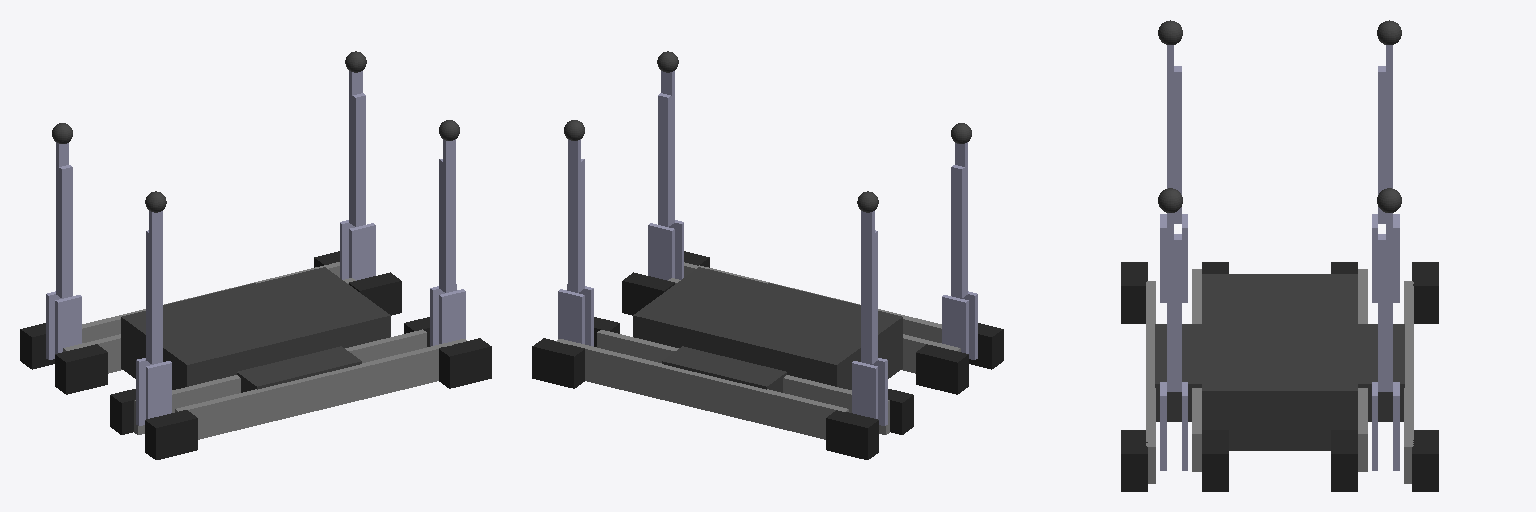
--- What the picture shows (computed from the rendered views, not written in the file) ---
3 views of the same robot in one strip: view 1: azimuth 30°, elevation 25°; view 2: azimuth 150°, elevation 25°; view 3: azimuth 270°, elevation 25° (orthographic).
Model minitaur with 39 links and 38 joints (16 continuous, 22 fixed), rooted at base_chassis_link, posed every joint at zero.
Visible links, largest first — view 1: base_chassis_link, frame1, chassis_left, frame3, motor_back_rightR_bracket_link, motor_front_rightR_bracket_link, lower_leg_back_rightR_link, lower_leg_front_rightR_link, lower_leg_front_leftR_link, lower_leg_back_leftR_link, upper_leg_front_leftR_link, upper_leg_back_rightR_link (+12 smaller); view 2: base_chassis_link, frame2, chassis_right, frame4, motor_back_leftL_bracket_link, motor_front_leftL_bracket_link, lower_leg_back_leftL_link, lower_leg_front_leftL_link, lower_leg_front_rightL_link, lower_leg_back_rightL_link, upper_leg_front_rightL_link, upper_leg_back_leftL_link (+12 smaller); view 3: base_chassis_link, chassis_right, chassis_left, frame1, frame2, motor_front_leftL_bracket_link, motor_front_rightR_bracket_link, motor_back_leftL_bracket_link, motor_back_rightR_bracket_link, frame3, frame4, lower_leg_front_leftR_link (+15 smaller).
Link boxes in pixels (x1,y1,x2,y2): base_chassis_link: (121, 267, 390, 392); frame1: (175, 339, 466, 439); chassis_left: (55, 272, 401, 394); frame3: (134, 329, 426, 434); motor_back_rightR_bracket_link: (145, 410, 197, 459); motor_front_rightR_bracket_link: (439, 338, 491, 388); lower_leg_back_rightR_link: (149, 211, 162, 364); lower_leg_front_rightR_link: (443, 139, 455, 292); lower_leg_front_leftR_link: (352, 93, 365, 226); lower_leg_back_leftR_link: (59, 165, 72, 298); upper_leg_front_leftR_link: (349, 223, 375, 280); upper_leg_back_rightR_link: (146, 361, 171, 418); base_chassis_link: (633, 267, 902, 392); frame2: (556, 339, 848, 439); chassis_right: (622, 272, 968, 394); frame4: (597, 330, 889, 434); motor_back_leftL_bracket_link: (826, 410, 878, 459); motor_front_leftL_bracket_link: (532, 338, 584, 388); lower_leg_back_leftL_link: (861, 211, 874, 364); lower_leg_front_leftL_link: (568, 139, 580, 292); lower_leg_front_rightL_link: (658, 93, 671, 226); lower_leg_back_rightL_link: (951, 165, 964, 298); upper_leg_front_rightL_link: (648, 223, 674, 280); upper_leg_back_leftL_link: (852, 361, 877, 418); base_chassis_link: (1155, 274, 1404, 450); chassis_right: (1202, 262, 1228, 491); chassis_left: (1331, 262, 1357, 491); frame1: (1146, 281, 1155, 483); frame2: (1404, 281, 1413, 483); motor_front_leftL_bracket_link: (1412, 430, 1438, 491); motor_front_rightR_bracket_link: (1121, 430, 1147, 491); motor_back_leftL_bracket_link: (1412, 262, 1438, 323); motor_back_rightR_bracket_link: (1121, 262, 1147, 323); frame3: (1192, 269, 1201, 471); frame4: (1358, 269, 1367, 471); lower_leg_front_leftR_link: (1378, 234, 1385, 391).
Bounding box of the posed robot: 0.543 × 0.38 × 0.383 m (x, y, z).
Meshes: 1 distinct files referenced, 0 mesh visuals loaded (none loaded); not drawn: 8 (reference not matched to a file when rendering).

robot.urdf — minitaur:
<?xml version="1.0" ?>
<!-- =================================================================================== -->
<!-- |    This document was autogenerated by xacro from minitaur.urdf.xacro            | -->
<!-- |    EDITING THIS FILE BY HAND IS NOT RECOMMENDED                                 | -->
<!-- =================================================================================== -->
<!-- ======================================================================= -->
<!--LICENSE:                                                                 -->
<!--Copyright (c) 2017, Erwin Coumans                                        -->
<!--Google Inc.                                                              -->
<!--All rights reserved.                                                     -->
<!--                                                                         -->
<!--Redistribution and use in source and binary forms, with or without       -->
<!--modification, are permitted provided that the following conditions are   -->
<!--met:                                                                     -->
<!--                                                                         -->
<!--1. Redistributions or derived work must retain this copyright notice,    -->
<!--   this list of conditions and the following disclaimer.                 -->
<!--                                                                         -->
<!--2. Redistributions in binary form must reproduce the above copyright     -->
<!--   notice, this list of conditions and the following disclaimer in the   -->
<!--   documentation and/or other materials provided with the distribution.  -->
<!--                                                                         -->
<!--THIS SOFTWARE IS PROVIDED BY THE COPYRIGHT HOLDERS AND CONTRIBUTORS "AS  -->
<!--IS" AND ANY EXPRESS OR IMPLIED WARRANTIES, INCLUDING, BUT NOT LIMITED TO,-->
<!--THE IMPLIED WARRANTIES OF MERCHANTABILITY AND FITNESS FOR A PARTICULAR   -->
<!--PURPOSE ARE DISCLAIMED. IN NO EVENT SHALL THE COPYRIGHT HOLDER OR        -->
<!--CONTRIBUTORS BE LIABLE FOR ANY DIRECT, INDIRECT, INCIDENTAL, SPECIAL,    -->
<!--EXEMPLARY, OR CONSEQUENTIAL DAMAGES (INCLUDING, BUT NOT LIMITED TO,      -->
<!--PROCUREMENT OF SUBSTITUTE GOODS OR SERVICES; LOSS OF USE, DATA, OR       -->
<!--PROFITS; OR BUSINESS INTERRUPTION) HOWEVER CAUSED AND ON ANY THEORY OF   -->
<!--LIABILITY, WHETHER IN CONTRACT, STRICT LIABILITY, OR TORT (INCLUDING     -->
<!--NEGLIGENCE OR OTHERWISE) ARISING IN ANY WAY OUT OF THE USE OF THIS       -->
<!--SOFTWARE, EVEN IF ADVISED OF THE POSSIBILITY OF SUCH DAMAGE.             -->
<!--                                                                         -->
<!-- Converted to xacro by Tom Jacobs <[email redacted]>          -->
<robot name="minitaur" xmlns:xacro="http://www.ros.org/wiki/xacro">
  <!-- Define parameters -->
  <!-- 7.18kg minitaur total weight - 0.016*4 - 0.10*8 - 0.25*8 - 0.05*8 - 0.05*8 = 3.516 -->
  <!-- * 4 frames -->
  <!-- * 8 motor modules -->
  <!-- * 8 motors -->
  <!-- * 8 upper legs -->
  <!-- * 8 lower legs -->
  <!-- Define materials -->
  <material name="black">
    <color rgba="0.3 0.3 0.3 1"/>
  </material>
  <material name="grey">
    <color rgba="0.5 0.5 0.5 1"/>
  </material>
  <material name="frameGrey">
    <color rgba="0.55 0.55 0.55 1"/>
  </material>
  <material name="legGrey">
    <color rgba="0.65 0.65 0.75 1"/>
  </material>
  <material name="motor">
    <color rgba="0.2 0.2 0.2 1"/>
  </material>
  <!-- Body -->
  <link name="base_chassis_link">
    <visual>
      <geometry>
        <box size="0.33 0.1855 0.08"/>
      </geometry>
      <material name="black"/>
    </visual>
    <visual>
      <origin rpy="0 0 0" xyz="0 0.10 -0.014"/>
      <geometry>
        <box size="0.17 0.1 0.05"/>
      </geometry>
      <material name="black"/>
    </visual>
    <visual>
      <origin rpy="0 0 0" xyz="0 -0.10 -0.014"/>
      <geometry>
        <box size="0.17 0.1 0.05"/>
      </geometry>
      <material name="black"/>
    </visual>
    <collision>
      <geometry>
        <box size="0.33 0.1855 0.08"/>
      </geometry>
    </collision>
    <collision>
      <origin rpy="0 0 0" xyz="0 0.10 -0.014"/>
      <geometry>
        <box size="0.17 0.1 0.05"/>
      </geometry>
    </collision>
    <collision>
      <origin rpy="0 0 0" xyz="0 -0.10 -0.014"/>
      <geometry>
        <box size="0.17 0.1 0.05"/>
      </geometry>
    </collision>
    <inertial>
      <mass value="3.516"/>
      <!-- https://en.wikipedia.org/wiki/List_of_moments_of_inertia Solid Cuboid -->
      <inertia ixx="0.01195740325" ixy="0.0" ixz="0.0" iyy="0.0337829" iyz="0.0" izz="0.04198990325"/>
    </inertial>
  </link>
  <!-- Frame -->
  <link name="frame1">
    <visual>
      <origin rpy="0 0 0" xyz="-0.22 0 0"/>
      <geometry>
        <box size="0.468 .012 .050"/>
      </geometry>
      <material name="frameGrey"/>
    </visual>
    <collision>
      <origin rpy="0 0 0" xyz="-0.22 0 0"/>
      <geometry>
        <box size="0.468 .012 .050"/>
      </geometry>
    </collision>
    <inertial>
      <origin rpy="0 0 0" xyz="0 -0.03 0"/>
      <mass value="0.16"/>
      <inertia ixx=".00011397" ixy=".0" ixz=".0" iyy=".00011397" iyz=".0" izz=".00021765"/>
    </inertial>
  </link>
  <joint name="frame1_joint" type="fixed">
    <axis xyz="0 0 1"/>
    <parent link="base_chassis_link"/>
    <child link="frame1"/>
    <origin rpy="0 0 0" xyz=".2375 -0.154 -.0185"/>
    <limit effort="100" velocity="100"/>
    <joint_properties damping=".0" friction=".0"/>
  </joint>
  <link name="frame2">
    <visual>
      <origin rpy="0 0 0" xyz="-0.22 0 0"/>
      <geometry>
        <box size="0.468 .012 .050"/>
      </geometry>
      <material name="frameGrey"/>
    </visual>
    <collision>
      <origin rpy="0 0 0" xyz="-0.22 0 0"/>
      <geometry>
        <box size="0.468 .012 .050"/>
      </geometry>
    </collision>
    <inertial>
      <origin rpy="0 0 0" xyz="0 0.02 0"/>
      <mass value="0.16"/>
      <inertia ixx=".00011397" ixy=".0" ixz=".0" iyy=".00011397" iyz=".0" izz=".00021765"/>
    </inertial>
  </link>
  <joint name="frame2_joint" type="fixed">
    <axis xyz="0 0 1"/>
    <parent link="base_chassis_link"/>
    <child link="frame2"/>
    <origin rpy="0 0 0" xyz=".2375 0.154 -.0185"/>
    <limit effort="100" velocity="100"/>
    <joint_properties damping=".0" friction=".0"/>
  </joint>
  <link name="frame3">
    <visual>
      <origin rpy="0 0 0" xyz="0.22 0.055 0"/>
      <geometry>
        <box size="0.468 .012 .050"/>
      </geometry>
      <material name="frameGrey"/>
    </visual>
    <collision>
      <origin rpy="0 0 0" xyz="0.22 0.055 0"/>
      <geometry>
        <box size="0.468 .012 .050"/>
      </geometry>
    </collision>
    <inertial>
      <origin rpy="0 0 0" xyz="0 -0.03 0"/>
      <mass value="0.16"/>
      <inertia ixx=".00011397" ixy=".0" ixz=".0" iyy=".00011397" iyz=".0" izz=".00021765"/>
    </inertial>
  </link>
  <joint name="frame3_joint" type="fixed">
    <axis xyz="0 0 1"/>
    <parent link="base_chassis_link"/>
    <child link="frame3"/>
    <origin rpy="0 0 0" xyz="-.2375 -0.154 -.0185"/>
    <limit effort="100" velocity="100"/>
    <joint_properties damping=".0" friction=".0"/>
  </joint>
  <link name="frame4">
    <visual>
      <origin rpy="0 0 0" xyz="0.22 -0.055 0"/>
      <geometry>
        <box size="0.468 .012 .050"/>
      </geometry>
      <material name="frameGrey"/>
    </visual>
    <collision>
      <origin rpy="0 0 0" xyz="0.22 -0.055 0"/>
      <geometry>
        <box size="0.468 .012 .050"/>
      </geometry>
    </collision>
    <inertial>
      <origin rpy="0 0 0" xyz="0 0.02 0"/>
      <mass value="0.16"/>
      <inertia ixx=".00011397" ixy=".0" ixz=".0" iyy=".00011397" iyz=".0" izz=".00021765"/>
    </inertial>
  </link>
  <joint name="frame4" type="fixed">
    <axis xyz="0 0 1"/>
    <parent link="base_chassis_link"/>
    <child link="frame4"/>
    <origin rpy="0 0 0" xyz="-.2375 0.154 -.0185"/>
    <limit effort="100" velocity="100"/>
    <joint_properties damping=".0" friction=".0"/>
  </joint>
  <!-- Inside motor module boxes -->
  <link name="chassis_right">
    <visual>
      <origin rpy="0 0 0" xyz=".2375 .049 0"/>
      <geometry>
        <box size=".068 .032 .050"/>
      </geometry>
      <material name="motor"/>
    </visual>
    <visual>
      <origin rpy="0 0 0" xyz="-.2375 .049 0"/>
      <geometry>
        <box size=".068 .032 .050"/>
      </geometry>
      <material name="motor"/>
    </visual>
    <collision>
      <origin rpy="0 0 0" xyz=".2375 .049 0"/>
      <geometry>
        <box size=".068 .032 .050"/>
      </geometry>
    </collision>
    <collision>
      <origin rpy="0 0 0" xyz="-.2375 .049 0"/>
      <geometry>
        <box size=".068 .032 .050"/>
      </geometry>
    </collision>
    <inertial>
      <mass value="0.2"/>
      <inertia ixx=".004147" ixy=".0" ixz=".0" iyy=".040913" iyz=".0" izz=".041840"/>
    </inertial>
  </link>
  <joint name="chassis_right_center" type="fixed">
    <axis xyz="0 0 1"/>
    <parent link="base_chassis_link"/>
    <child link="chassis_right"/>
    <origin rpy="0 0 0" xyz="0 -.1265 -.0185"/>
    <limit effort="100" velocity="100"/>
    <joint_properties damping=".0" friction=".0"/>
  </joint>
  <link name="chassis_left">
    <visual>
      <origin rpy="0 0 0" xyz=".2375 -.049 0"/>
      <geometry>
        <box size=".068 .032 .050"/>
      </geometry>
      <material name="motor"/>
    </visual>
    <visual>
      <origin rpy="0 0 0" xyz="-.2375 -.049 0"/>
      <geometry>
        <box size=".068 .032 .050"/>
      </geometry>
      <material name="motor"/>
    </visual>
    <collision>
      <origin rpy="0 0 0" xyz=".2375 -.049 0"/>
      <geometry>
        <box size=".068 .032 .050"/>
      </geometry>
    </collision>
    <collision>
      <origin rpy="0 0 0" xyz="-.2375 -.049 0"/>
      <geometry>
        <box size=".068 .032 .050"/>
      </geometry>
    </collision>
    <inertial>
      <mass value="0.2"/>
      <inertia ixx=".004147" ixy=".0" ixz=".0" iyy=".040913" iyz=".0" izz=".041840"/>
    </inertial>
  </link>
  <joint name="chassis_left_center" type="fixed">
    <axis xyz="0 0 1"/>
    <parent link="base_chassis_link"/>
    <child link="chassis_left"/>
    <origin rpy="0 0 0" xyz="0 .1265 -.0185"/>
    <limit effort="100" velocity="100"/>
    <joint_properties damping=".0" friction=".0"/>
  </joint>
  <!-- Outside motor module boxes -->
  <link name="motor_front_rightR_bracket_link">
    <visual>
      <origin rpy="0 0 0" xyz="0 -0.02 0"/>
      <geometry>
        <box size="0.068 .032 .050"/>
      </geometry>
      <material name="motor"/>
    </visual>
    <collision>
      <origin rpy="0 0 0" xyz="0 -0.02 0"/>
      <geometry>
        <box size=".068 .032 .050"/>
      </geometry>
    </collision>
    <inertial>
      <origin rpy="0 0 0" xyz="0 -0.03 0"/>
      <mass value="0.1"/>
      <inertia ixx=".00011397" ixy=".0" ixz=".0" iyy=".00011397" iyz=".0" izz=".00021765"/>
    </inertial>
  </link>
  <joint name="motor_front_rightR_bracket_joint" type="fixed">
    <axis xyz="0 0 1"/>
    <parent link="base_chassis_link"/>
    <child link="motor_front_rightR_bracket_link"/>
    <origin rpy="0 0 0" xyz=".2375 -0.154 -.0185"/>
    <limit effort="100" velocity="100"/>
    <joint_properties damping=".0" friction=".0"/>
  </joint>
  <link name="motor_front_leftL_bracket_link">
    <visual>
      <origin rpy="0 0 0" xyz="0 0.02 0"/>
      <geometry>
        <box size="0.068 .032 .050"/>
      </geometry>
      <material name="motor"/>
    </visual>
    <collision>
      <origin rpy="0 0 0" xyz="0 0.02 0"/>
      <geometry>
        <box size=".068 .032 .050"/>
      </geometry>
    </collision>
    <inertial>
      <origin rpy="0 0 0" xyz="0 0.02 0"/>
      <mass value="0.1"/>
      <inertia ixx=".00011397" ixy=".0" ixz=".0" iyy=".00011397" iyz=".0" izz=".00021765"/>
    </inertial>
  </link>
  <joint name="motor_front_leftL_bracket_joint" type="fixed">
    <axis xyz="0 0 1"/>
    <parent link="base_chassis_link"/>
    <child link="motor_front_leftL_bracket_link"/>
    <origin rpy="0 0 0" xyz=".2375 0.154 -.0185"/>
    <limit effort="100" velocity="100"/>
    <joint_properties damping=".0" friction=".0"/>
  </joint>
  <link name="motor_back_rightR_bracket_link">
    <visual>
      <origin rpy="0 0 0" xyz="0 -0.02 0"/>
      <geometry>
        <box size="0.068 .032 .050"/>
      </geometry>
      <material name="motor"/>
    </visual>
    <collision>
      <origin rpy="0 0 0" xyz="0 -0.02 0"/>
      <geometry>
        <box size=".068 .032 .050"/>
      </geometry>
    </collision>
    <inertial>
      <origin rpy="0 0 0" xyz="0 -0.03 0"/>
      <mass value="0.1"/>
      <inertia ixx=".00011397" ixy=".0" ixz=".0" iyy=".00011397" iyz=".0" izz=".00021765"/>
    </inertial>
  </link>
  <joint name="motor_back_rightR_bracket_joint" type="fixed">
    <axis xyz="0 0 1"/>
    <parent link="base_chassis_link"/>
    <child link="motor_back_rightR_bracket_link"/>
    <origin rpy="0 0 0" xyz="-.2375 -0.154 -.0185"/>
    <limit effort="100" velocity="100"/>
    <joint_properties damping=".0" friction=".0"/>
  </joint>
  <link name="motor_back_leftL_bracket_link">
    <visual>
      <origin rpy="0 0 0" xyz="0 0.02 0"/>
      <geometry>
        <box size="0.068 .032 .050"/>
      </geometry>
      <material name="motor"/>
    </visual>
    <collision>
      <origin rpy="0 0 0" xyz="0 0.02 0"/>
      <geometry>
        <box size=".068 .032 .050"/>
      </geometry>
    </collision>
    <inertial>
      <origin rpy="0 0 0" xyz="0 0.02 0"/>
      <mass value="0.1"/>
      <inertia ixx=".00011397" ixy=".0" ixz=".0" iyy=".00011397" iyz=".0" izz=".00021765"/>
    </inertial>
  </link>
  <joint name="motor_back_leftL_bracket_joint" type="fixed">
    <axis xyz="0 0 1"/>
    <parent link="base_chassis_link"/>
    <child link="motor_back_leftL_bracket_link"/>
    <origin rpy="0 0 0" xyz="-.2375 0.154 -.0185"/>
    <limit effort="100" velocity="100"/>
    <joint_properties damping=".0" friction=".0"/>
  </joint>
  <!-- Define our motor macro -->
  <!-- Motors -->
  <link name="motor_front_rightR_link">
    <visual>
      <geometry>
        <mesh filename="package://minitaur_description/meshes/tmotor3.obj" scale="1.0 1.0 1.0"/>
      </geometry>
      <material name="motor"/>
    </visual>
    <collision>
      <geometry>
        <cylinder length="0.021" radius="0.0425"/>
      </geometry>
    </collision>
    <inertial>
      <mass value="0.25"/>
      <inertia ixx=".00011397" ixy=".0" ixz=".0" iyy=".00011397" iyz=".0" izz=".00021765"/>
    </inertial>
  </link>
  <joint name="5" type="continuous">
    <axis xyz="0 0 1"/>
    <parent link="motor_front_rightR_bracket_link"/>
    <child link="motor_front_rightR_link"/>
    <origin rpy="1.57075 0 0" xyz="0 0 0"/>
    <limit effort="100" velocity="100"/>
    <joint_properties damping="0.0" friction="0.0"/>
  </joint>
  <link name="motor_front_rightL_link">
    <visual>
      <geometry>
        <mesh filename="package://minitaur_description/meshes/tmotor3.obj" scale="1.0 1.0 1.0"/>
      </geometry>
      <material name="motor"/>
    </visual>
    <collision>
      <geometry>
        <cylinder length="0.021" radius="0.0425"/>
      </geometry>
    </collision>
    <inertial>
      <mass value="0.25"/>
      <inertia ixx=".00011397" ixy=".0" ixz=".0" iyy=".00011397" iyz=".0" izz=".00021765"/>
    </inertial>
  </link>
  <joint name="4" type="continuous">
    <axis xyz="0 0 -1"/>
    <parent link="chassis_right"/>
    <child link="motor_front_rightL_link"/>
    <origin rpy="1.57075 0 0" xyz=".2375 .0275 0"/>
    <limit effort="100" velocity="100"/>
    <joint_properties damping="0.0" friction="0.0"/>
  </joint>
  <link name="motor_front_leftL_link">
    <visual>
      <geometry>
        <mesh filename="package://minitaur_description/meshes/tmotor3.obj" scale="1.0 1.0 1.0"/>
      </geometry>
      <material name="motor"/>
    </visual>
    <collision>
      <geometry>
        <cylinder length="0.021" radius="0.0425"/>
      </geometry>
    </collision>
    <inertial>
      <mass value="0.25"/>
      <inertia ixx=".00011397" ixy=".0" ixz=".0" iyy=".00011397" iyz=".0" izz=".00021765"/>
    </inertial>
  </link>
  <joint name="0" type="continuous">
    <axis xyz="0 0 -1"/>
    <parent link="motor_front_leftL_bracket_link"/>
    <child link="motor_front_leftL_link"/>
    <origin rpy="1.57075 0 0" xyz="0 0 0"/>
    <limit effort="100" velocity="100"/>
    <joint_properties damping="0.0" friction="0.0"/>
  </joint>
  <link name="motor_front_leftR_link">
    <visual>
      <geometry>
        <mesh filename="package://minitaur_description/meshes/tmotor3.obj" scale="1.0 1.0 1.0"/>
      </geometry>
      <material name="motor"/>
    </visual>
    <collision>
      <geometry>
        <cylinder length="0.021" radius="0.0425"/>
      </geometry>
    </collision>
    <inertial>
      <mass value="0.25"/>
      <inertia ixx=".00011397" ixy=".0" ixz=".0" iyy=".00011397" iyz=".0" izz=".00021765"/>
    </inertial>
  </link>
  <joint name="1" type="continuous">
    <axis xyz="0 0 1"/>
    <parent link="chassis_left"/>
    <child link="motor_front_leftR_link"/>
    <origin rpy="1.57075 0 0" xyz=".2375 -.0275 0"/>
    <limit effort="100" velocity="100"/>
    <joint_properties damping="0.0" friction="0.0"/>
  </joint>
  <link name="motor_back_rightR_link">
    <visual>
      <geometry>
        <mesh filename="package://minitaur_description/meshes/tmotor3.obj" scale="1.0 1.0 1.0"/>
      </geometry>
      <material name="motor"/>
    </visual>
    <collision>
      <geometry>
        <cylinder length="0.021" radius="0.0425"/>
      </geometry>
    </collision>
    <inertial>
      <mass value="0.25"/>
      <inertia ixx=".00011397" ixy=".0" ixz=".0" iyy=".00011397" iyz=".0" izz=".00021765"/>
    </inertial>
  </link>
  <joint name="7" type="continuous">
    <axis xyz="0 0 1"/>
    <parent link="motor_back_rightR_bracket_link"/>
    <child link="motor_back_rightR_link"/>
    <origin rpy="1.57075 0 0" xyz="0 0 0"/>
    <limit effort="100" velocity="100"/>
    <joint_properties damping="0.0" friction="0.0"/>
  </joint>
  <link name="motor_back_rightL_link">
    <visual>
      <geometry>
        <mesh filename="package://minitaur_description/meshes/tmotor3.obj" scale="1.0 1.0 1.0"/>
      </geometry>
      <material name="motor"/>
    </visual>
    <collision>
      <geometry>
        <cylinder length="0.021" radius="0.0425"/>
      </geometry>
    </collision>
    <inertial>
      <mass value="0.25"/>
      <inertia ixx=".00011397" ixy=".0" ixz=".0" iyy=".00011397" iyz=".0" izz=".00021765"/>
    </inertial>
  </link>
  <joint name="6" type="continuous">
    <axis xyz="0 0 -1"/>
    <parent link="chassis_right"/>
    <child link="motor_back_rightL_link"/>
    <origin rpy="1.57075 0 0" xyz="-.2375 .0275 0"/>
    <limit effort="100" velocity="100"/>
    <joint_properties damping="0.0" friction="0.0"/>
  </joint>
  <link name="motor_back_leftL_link">
    <visual>
      <geometry>
        <mesh filename="package://minitaur_description/meshes/tmotor3.obj" scale="1.0 1.0 1.0"/>
      </geometry>
      <material name="motor"/>
    </visual>
    <collision>
      <geometry>
        <cylinder length="0.021" radius="0.0425"/>
      </geometry>
    </collision>
    <inertial>
      <mass value="0.25"/>
      <inertia ixx=".00011397" ixy=".0" ixz=".0" iyy=".00011397" iyz=".0" izz=".00021765"/>
    </inertial>
  </link>
  <joint name="2" type="continuous">
    <axis xyz="0 0 -1"/>
    <parent link="motor_back_leftL_bracket_link"/>
    <child link="motor_back_leftL_link"/>
    <origin rpy="1.57075 0 0" xyz="0 0 0"/>
    <limit effort="100" velocity="100"/>
    <joint_properties damping="0.0" friction="0.0"/>
  </joint>
  <link name="motor_back_leftR_link">
    <visual>
      <geometry>
        <mesh filename="package://minitaur_description/meshes/tmotor3.obj" scale="1.0 1.0 1.0"/>
      </geometry>
      <material name="motor"/>
    </visual>
    <collision>
      <geometry>
        <cylinder length="0.021" radius="0.0425"/>
      </geometry>
    </collision>
    <inertial>
      <mass value="0.25"/>
      <inertia ixx=".00011397" ixy=".0" ixz=".0" iyy=".00011397" iyz=".0" izz=".00021765"/>
    </inertial>
  </link>
  <joint name="3" type="continuous">
    <axis xyz="0 0 1"/>
    <parent link="chassis_left"/>
    <child link="motor_back_leftR_link"/>
    <origin rpy="1.57075 0 0" xyz="-.2375 -.0275 0"/>
    <limit effort="100" velocity="100"/>
    <joint_properties damping="0.0" friction="0.0"/>
  </joint>
  <!-- Define our upper leg macro -->
  <!-- Define our lower leg macro -->
  <!-- Legs -->
  <link name="upper_leg_front_rightR_link">
    <visual>
      <geometry>
        <box size="0.039 0.008 0.1"/>
      </geometry>
      <material name="legGrey"/>
    </visual>
    <collision>
      <geometry>
        <box size="0.039 0.008 0.1"/>
      </geometry>
    </collision>
    <inertial>
      <mass value="0.05"/>
      <inertia ixx=".000038770" ixy=".0" ixz=".0" iyy=".000042198" iyz=".0" izz=".0000036030"/>
    </inertial>
  </link>
  <joint name="hip_front_rightR_link" type="fixed">
    <axis xyz="0 0 1"/>
    <parent link="motor_front_rightR_link"/>
    <child link="upper_leg_front_rightR_link"/>
    <origin rpy="-1.57075 0 0" xyz="0 .045 -.0145"/>
    <limit effort="100" velocity="100"/>
    <joint_properties damping="0.0" friction="0.0"/>
  </joint>
  <link name="upper_leg_front_rightL_link">
    <visual>
      <geometry>
        <box size="0.039 0.008 0.1"/>
      </geometry>
      <material name="legGrey"/>
    </visual>
    <collision>
      <geometry>
        <box size="0.039 0.008 0.1"/>
      </geometry>
    </collision>
    <inertial>
      <mass value="0.05"/>
      <inertia ixx=".000038770" ixy=".0" ixz=".0" iyy=".000042198" iyz=".0" izz=".0000036030"/>
    </inertial>
  </link>
  <joint name="motor_front_rightL_link" type="fixed">
    <axis xyz="0 0 1"/>
    <parent link="motor_front_rightL_link"/>
    <child link="upper_leg_front_rightL_link"/>
    <origin rpy="-1.57075 0 0" xyz="0 .045 .0145"/>
    <limit effort="100" velocity="100"/>
    <joint_properties damping="0.0" friction="0.0"/>
  </joint>
  <link name="upper_leg_front_leftR_link">
    <visual>
      <geometry>
        <box size="0.039 0.008 0.1"/>
      </geometry>
      <material name="legGrey"/>
    </visual>
    <collision>
      <geometry>
        <box size="0.039 0.008 0.1"/>
      </geometry>
    </collision>
    <inertial>
      <mass value="0.05"/>
      <inertia ixx=".000038770" ixy=".0" ixz=".0" iyy=".000042198" iyz=".0" izz=".0000036030"/>
    </inertial>
  </link>
  <joint name="hip_front_leftR_link" type="fixed">
    <axis xyz="0 0 1"/>
    <parent link="motor_front_leftR_link"/>
    <child link="upper_leg_front_leftR_link"/>
    <origin rpy="-1.57075 0 0" xyz="0 .045 -.0145"/>
    <limit effort="100" velocity="100"/>
    <joint_properties damping="0.0" friction="0.0"/>
  </joint>
  <link name="upper_leg_front_leftL_link">
    <visual>
      <geometry>
        <box size="0.039 0.008 0.1"/>
      </geometry>
      <material name="legGrey"/>
    </visual>
    <collision>
      <geometry>
        <box size="0.039 0.008 0.1"/>
      </geometry>
    </collision>
    <inertial>
      <mass value="0.05"/>
      <inertia ixx=".000038770" ixy=".0" ixz=".0" iyy=".000042198" iyz=".0" izz=".0000036030"/>
    </inertial>
  </link>
  <joint name="motor_front_leftL_link" type="fixed">
    <axis xyz="0 0 1"/>
    <parent link="motor_front_leftL_link"/>
    <child link="upper_leg_front_leftL_link"/>
    <origin rpy="-1.57075 0 0" xyz="0 .045 .0145"/>
    <limit effort="100" velocity="100"/>
    <joint_properties damping="0.0" friction="0.0"/>
  </joint>
  <link name="upper_leg_back_rightR_link">
    <visual>
      <geometry>
        <box size="0.039 0.008 0.1"/>
      </geometry>
      <material name="legGrey"/>
    </visual>
    <collision>
      <geometry>
        <box size="0.039 0.008 0.1"/>
      </geometry>
    </collision>
    <inertial>
      <mass value="0.05"/>
      <inertia ixx=".000038770" ixy=".0" ixz=".0" iyy=".000042198" iyz=".0" izz=".0000036030"/>
    </inertial>
  </link>
  <joint name="hip_back_rightR_link" type="fixed">
    <axis xyz="0 0 1"/>
    <parent link="motor_back_rightR_link"/>
    <child link="upper_leg_back_rightR_link"/>
    <origin rpy="-1.57075 0 0" xyz="0 .045 -.0145"/>
    <limit effort="100" velocity="100"/>
    <joint_properties damping="0.0" friction="0.0"/>
  </joint>
  <link name="upper_leg_back_rightL_link">
    <visual>
      <geometry>
        <box size="0.039 0.008 0.1"/>
      </geometry>
      <material name="legGrey"/>
    </visual>
    <collision>
      <geometry>
        <box size="0.039 0.008 0.1"/>
      </geometry>
    </collision>
    <inertial>
      <mass value="0.05"/>
      <inertia ixx=".000038770" ixy=".0" ixz=".0" iyy=".000042198" iyz=".0" izz=".0000036030"/>
    </inertial>
  </link>
  <joint name="motor_back_rightL_link" type="fixed">
    <axis xyz="0 0 1"/>
    <parent link="motor_back_rightL_link"/>
    <child link="upper_leg_back_rightL_link"/>
    <origin rpy="-1.57075 0 0" xyz="0 .045 .0145"/>
    <limit effort="100" velocity="100"/>
    <joint_properties damping="0.0" friction="0.0"/>
  </joint>
  <link name="upper_leg_back_leftR_link">
    <visual>
      <geometry>
        <box size="0.039 0.008 0.1"/>
      </geometry>
      <material name="legGrey"/>
    </visual>
    <collision>
      <geometry>
        <box size="0.039 0.008 0.1"/>
      </geometry>
    </collision>
    <inertial>
      <mass value="0.05"/>
      <inertia ixx=".000038770" ixy=".0" ixz=".0" iyy=".000042198" iyz=".0" izz=".0000036030"/>
    </inertial>
  </link>
  <joint name="hip_back_leftR_link" type="fixed">
    <axis xyz="0 0 1"/>
    <parent link="motor_back_leftR_link"/>
    <child link="upper_leg_back_leftR_link"/>
    <origin rpy="-1.57075 0 0" xyz="0 .045 -.0145"/>
    <limit effort="100" velocity="100"/>
    <joint_properties damping="0.0" friction="0.0"/>
  </joint>
  <link name="upper_leg_back_leftL_link">
    <visual>
      <geometry>
        <box size="0.039 0.008 0.1"/>
      </geometry>
      <material name="legGrey"/>
    </visual>
    <collision>
      <geometry>
        <box size="0.039 0.008 0.1"/>
      </geometry>
    </collision>
    <inertial>
      <mass value="0.05"/>
      <inertia ixx=".000038770" ixy=".0" ixz=".0" iyy=".000042198" iyz=".0" izz=".0000036030"/>
    </inertial>
  </link>
  <joint name="motor_back_leftL_link" type="fixed">
    <axis xyz="0 0 1"/>
    <parent link="motor_back_leftL_link"/>
    <child link="upper_leg_back_leftL_link"/>
    <origin rpy="-1.57075 0 0" xyz="0 .045 .0145"/>
    <limit effort="100" velocity="100"/>
    <joint_properties damping="0.0" friction="0.0"/>
  </joint>
  <!-- Lower legs and flexy knee joints -->
  <link name="lower_leg_front_leftL_link">
    <contact>
      <friction_anchor/>
      <stiffness value="3000.0"/>
      <damping value="100.0"/>
      <spinning_friction value=".05"/>
      <lateral_friction value="1"/>
    </contact>
    <visual>
      <origin rpy="0 0 0" xyz="0 0 0.124"/>
      <geometry>
        <box size="0.017 0.009 0.248"/>
      </geometry>
      <material name="legGrey"/>
    </visual>
    <collision>
      <origin rpy="0 0 0" xyz="0 0 0.124"/>
      <geometry>
        <box size="0.017 0.009 0.248"/>
      </geometry>
    </collision>
    <inertial>
      <origin rpy="0 0 0" xyz="0 0 0.124"/>
      <mass value="0.05"/>
      <inertia ixx=".00032459" ixy=".0" ixz=".0" iyy=".00032637" iyz=".0" izz=".000002178"/>
    </inertial>
  </link>
  <joint name="8" type="continuous">
    <axis xyz="0 -1 0"/>
    <parent link="upper_leg_front_leftL_link"/>
    <child link="lower_leg_front_leftL_link"/>
    <origin rpy="0 0 0" xyz="0 -0.0085 0.05"/>
    <limit effort="100" velocity="100"/>
    <joint_properties damping="0.0" friction="0.0"/>
  </joint>
  <!-- Toe -->
  <link name="toe0">
    <contact>
      <friction_anchor/>
      <stiffness value="30000.0"/>
      <damping value="1000.0"/>
      <spinning_friction value="0.3"/>
      <lateral_friction value="0.7"/>
    </contact>
    <visual>
      <origin rpy="0 0 0" xyz="0 0 0"/>
      <geometry>
        <sphere radius="0.015"/>
      </geometry>
      <material name="black"/>
    </visual>
    <collision>
      <origin rpy="0 0 0" xyz="0 0 0"/>
      <geometry>
        <sphere radius="0.015"/>
      </geometry>
    </collision>
    <inertial>
      <mass value="0.01"/>
      <inertia ixx="0.000025" ixy="0" ixz="0" iyy="0.000025" iyz="0" izz="0.000025"/>
    </inertial>
  </link>
  <joint name="toe0" type="fixed">
    <parent link="lower_leg_front_leftL_link"/>
    <child link="toe0"/>
    <origin xyz="0 0 0.248"/>
    <dynamics damping="0.0" friction="0.0"/>
  </joint>
  <link name="lower_leg_front_leftR_link">
    <contact>
      <friction_anchor/>
      <stiffness value="3000.0"/>
      <damping value="100.0"/>
      <spinning_friction value=".05"/>
      <lateral_friction value="1"/>
    </contact>
    <visual>
      <origin rpy="0 0 0" xyz="0 0 0.1"/>
      <geometry>
        <box size="0.017 0.009 0.2"/>
      </geometry>
      <material name="legGrey"/>
    </visual>
    <collision>
      <origin rpy="0 0 0" xyz="0 0 0.1"/>
      <geometry>
        <box size="0.017 0.009 0.2"/>
      </geometry>
    </collision>
    <inertial>
      <origin rpy="0 0 0" xyz="0 0 0.1"/>
      <mass value="0.05"/>
      <inertia ixx=".00032459" ixy=".0" ixz=".0" iyy=".00032637" iyz=".0" izz=".000002178"/>
    </inertial>
  </link>
  <joint name="9" type="continuous">
    <axis xyz="0 1 0"/>
    <parent link="upper_leg_front_leftR_link"/>
    <child link="lower_leg_front_leftR_link"/>
    <origin rpy="0 0 0" xyz="0 0.0085 0.05"/>
    <limit effort="100" velocity="100"/>
    <joint_properties damping="0.0" friction="0.0"/>
  </joint>
  <link name="lower_leg_back_leftL_link">
    <contact>
      <friction_anchor/>
      <stiffness value="3000.0"/>
      <damping value="100.0"/>
      <spinning_friction value=".05"/>
      <lateral_friction value="1"/>
    </contact>
    <visual>
      <origin rpy="0 0 0" xyz="0 0 0.124"/>
      <geometry>
        <box size="0.017 0.009 0.248"/>
      </geometry>
      <material name="legGrey"/>
    </visual>
    <collision>
      <origin rpy="0 0 0" xyz="0 0 0.124"/>
      <geometry>
        <box size="0.017 0.009 0.248"/>
      </geometry>
    </collision>
    <inertial>
      <origin rpy="0 0 0" xyz="0 0 0.124"/>
      <mass value="0.05"/>
      <inertia ixx=".00032459" ixy=".0" ixz=".0" iyy=".00032637" iyz=".0" izz=".000002178"/>
    </inertial>
  </link>
  <joint name="10" type="continuous">
    <axis xyz="0 -1 0"/>
    <parent link="upper_leg_back_leftL_link"/>
    <child link="lower_leg_back_leftL_link"/>
    <origin rpy="0 0 0" xyz="0 -0.0085 0.05"/>
    <limit effort="100" velocity="100"/>
    <joint_properties damping="0.0" friction="0.0"/>
  </joint>
  <!-- Toe -->
  <link name="toe2">
    <contact>
      <friction_anchor/>
      <stiffness value="30000.0"/>
      <damping value="1000.0"/>
      <spinning_friction value="0.3"/>
      <lateral_friction value="0.7"/>
    </contact>
    <visual>
      <origin rpy="0 0 0" xyz="0 0 0"/>
      <geometry>
        <sphere radius="0.015"/>
      </geometry>
      <material name="black"/>
    </visual>
    <collision>
      <origin rpy="0 0 0" xyz="0 0 0"/>
      <geometry>
        <sphere radius="0.015"/>
      </geometry>
    </collision>
    <inertial>
      <mass value="0.01"/>
      <inertia ixx="0.000025" ixy="0" ixz="0" iyy="0.000025" iyz="0" izz="0.000025"/>
    </inertial>
  </link>
  <joint name="toe2" type="fixed">
    <parent link="lower_leg_back_leftL_link"/>
    <child link="toe2"/>
    <origin xyz="0 0 0.248"/>
    <dynamics damping="0.0" friction="0.0"/>
  </joint>
  <link name="lower_leg_back_leftR_link">
    <contact>
      <friction_anchor/>
      <stiffness value="3000.0"/>
      <damping value="100.0"/>
      <spinning_friction value=".05"/>
      <lateral_friction value="1"/>
    </contact>
    <visual>
      <origin rpy="0 0 0" xyz="0 0 0.1"/>
      <geometry>
        <box size="0.017 0.009 0.2"/>
      </geometry>
      <material name="legGrey"/>
    </visual>
    <collision>
      <origin rpy="0 0 0" xyz="0 0 0.1"/>
      <geometry>
        <box size="0.017 0.009 0.2"/>
      </geometry>
    </collision>
    <inertial>
      <origin rpy="0 0 0" xyz="0 0 0.1"/>
      <mass value="0.05"/>
      <inertia ixx=".00032459" ixy=".0" ixz=".0" iyy=".00032637" iyz=".0" izz=".000002178"/>
    </inertial>
  </link>
  <joint name="11" type="continuous">
    <axis xyz="0 1 0"/>
    <parent link="upper_leg_back_leftR_link"/>
    <child link="lower_leg_back_leftR_link"/>
    <origin rpy="0 0 0" xyz="0 0.0085 0.05"/>
    <limit effort="100" velocity="100"/>
    <joint_properties damping="0.0" friction="0.0"/>
  </joint>
  <link name="lower_leg_front_rightL_link">
    <contact>
      <friction_anchor/>
      <stiffness value="3000.0"/>
      <damping value="100.0"/>
      <spinning_friction value=".05"/>
      <lateral_friction value="1"/>
    </contact>
    <visual>
      <origin rpy="0 0 0" xyz="0 0 0.1"/>
      <geometry>
        <box size="0.017 0.009 0.2"/>
      </geometry>
      <material name="legGrey"/>
    </visual>
    <collision>
      <origin rpy="0 0 0" xyz="0 0 0.1"/>
      <geometry>
        <box size="0.017 0.009 0.2"/>
      </geometry>
    </collision>
    <inertial>
      <origin rpy="0 0 0" xyz="0 0 0.1"/>
      <mass value="0.05"/>
      <inertia ixx=".00032459" ixy=".0" ixz=".0" iyy=".00032637" iyz=".0" izz=".000002178"/>
    </inertial>
  </link>
  <joint name="12" type="continuous">
    <axis xyz="0 -1 0"/>
    <parent link="upper_leg_front_rightL_link"/>
    <child link="lower_leg_front_rightL_link"/>
    <origin rpy="0 0 0" xyz="0 -0.0085 0.05"/>
    <limit effort="100" velocity="100"/>
    <joint_properties damping="0.0" friction="0.0"/>
  </joint>
  <link name="lower_leg_front_rightR_link">
    <contact>
      <friction_anchor/>
      <stiffness value="3000.0"/>
      <damping value="100.0"/>
      <spinning_friction value=".05"/>
      <lateral_friction value="1"/>
    </contact>
    <visual>
      <origin rpy="0 0 0" xyz="0 0 0.124"/>
      <geometry>
        <box size="0.017 0.009 0.248"/>
      </geometry>
      <material name="legGrey"/>
    </visual>
    <collision>
      <origin rpy="0 0 0" xyz="0 0 0.124"/>
      <geometry>
        <box size="0.017 0.009 0.248"/>
      </geometry>
    </collision>
    <inertial>
      <origin rpy="0 0 0" xyz="0 0 0.124"/>
      <mass value="0.05"/>
      <inertia ixx=".00032459" ixy=".0" ixz=".0" iyy=".00032637" iyz=".0" izz=".000002178"/>
    </inertial>
  </link>
  <joint name="13" type="continuous">
    <axis xyz="0 1 0"/>
    <parent link="upper_leg_front_rightR_link"/>
    <child link="lower_leg_front_rightR_link"/>
    <origin rpy="0 0 0" xyz="0 0.0085 0.05"/>
    <limit effort="100" velocity="100"/>
    <joint_properties damping="0.0" friction="0.0"/>
  </joint>
  <!-- Toe -->
  <link name="toe5">
    <contact>
      <friction_anchor/>
      <stiffness value="30000.0"/>
      <damping value="1000.0"/>
      <spinning_friction value="0.3"/>
      <lateral_friction value="0.7"/>
    </contact>
    <visual>
      <origin rpy="0 0 0" xyz="0 0 0"/>
      <geometry>
        <sphere radius="0.015"/>
      </geometry>
      <material name="black"/>
    </visual>
    <collision>
      <origin rpy="0 0 0" xyz="0 0 0"/>
      <geometry>
        <sphere radius="0.015"/>
      </geometry>
    </collision>
    <inertial>
      <mass value="0.01"/>
      <inertia ixx="0.000025" ixy="0" ixz="0" iyy="0.000025" iyz="0" izz="0.000025"/>
    </inertial>
  </link>
  <joint name="toe5" type="fixed">
    <parent link="lower_leg_front_rightR_link"/>
    <child link="toe5"/>
    <origin xyz="0 0 0.248"/>
    <dynamics damping="0.0" friction="0.0"/>
  </joint>
  <link name="lower_leg_back_rightL_link">
    <contact>
      <friction_anchor/>
      <stiffness value="3000.0"/>
      <damping value="100.0"/>
      <spinning_friction value=".05"/>
      <lateral_friction value="1"/>
    </contact>
    <visual>
      <origin rpy="0 0 0" xyz="0 0 0.1"/>
      <geometry>
        <box size="0.017 0.009 0.2"/>
      </geometry>
      <material name="legGrey"/>
    </visual>
    <collision>
      <origin rpy="0 0 0" xyz="0 0 0.1"/>
      <geometry>
        <box size="0.017 0.009 0.2"/>
      </geometry>
    </collision>
    <inertial>
      <origin rpy="0 0 0" xyz="0 0 0.1"/>
      <mass value="0.05"/>
      <inertia ixx=".00032459" ixy=".0" ixz=".0" iyy=".00032637" iyz=".0" izz=".000002178"/>
    </inertial>
  </link>
  <joint name="14" type="continuous">
    <axis xyz="0 -1 0"/>
    <parent link="upper_leg_back_rightL_link"/>
    <child link="lower_leg_back_rightL_link"/>
    <origin rpy="0 0 0" xyz="0 -0.0085 0.05"/>
    <limit effort="100" velocity="100"/>
    <joint_properties damping="0.0" friction="0.0"/>
  </joint>
  <link name="lower_leg_back_rightR_link">
    <contact>
      <friction_anchor/>
      <stiffness value="3000.0"/>
      <damping value="100.0"/>
      <spinning_friction value=".05"/>
      <lateral_friction value="1"/>
    </contact>
    <visual>
      <origin rpy="0 0 0" xyz="0 0 0.124"/>
      <geometry>
        <box size="0.017 0.009 0.248"/>
      </geometry>
      <material name="legGrey"/>
    </visual>
    <collision>
      <origin rpy="0 0 0" xyz="0 0 0.124"/>
      <geometry>
        <box size="0.017 0.009 0.248"/>
      </geometry>
    </collision>
    <inertial>
      <origin rpy="0 0 0" xyz="0 0 0.124"/>
      <mass value="0.05"/>
      <inertia ixx=".00032459" ixy=".0" ixz=".0" iyy=".00032637" iyz=".0" izz=".000002178"/>
    </inertial>
  </link>
  <joint name="15" type="continuous">
    <axis xyz="0 1 0"/>
    <parent link="upper_leg_back_rightR_link"/>
    <child link="lower_leg_back_rightR_link"/>
    <origin rpy="0 0 0" xyz="0 0.0085 0.05"/>
    <limit effort="100" velocity="100"/>
    <joint_properties damping="0.0" friction="0.0"/>
  </joint>
  <!-- Toe -->
  <link name="toe7">
    <contact>
      <friction_anchor/>
      <stiffness value="30000.0"/>
      <damping value="1000.0"/>
      <spinning_friction value="0.3"/>
      <lateral_friction value="0.7"/>
    </contact>
    <visual>
      <origin rpy="0 0 0" xyz="0 0 0"/>
      <geometry>
        <sphere radius="0.015"/>
      </geometry>
      <material name="black"/>
    </visual>
    <collision>
      <origin rpy="0 0 0" xyz="0 0 0"/>
      <geometry>
        <sphere radius="0.015"/>
      </geometry>
    </collision>
    <inertial>
      <mass value="0.01"/>
      <inertia ixx="0.000025" ixy="0" ixz="0" iyy="0.000025" iyz="0" izz="0.000025"/>
    </inertial>
  </link>
  <joint name="toe7" type="fixed">
    <parent link="lower_leg_back_rightR_link"/>
    <child link="toe7"/>
    <origin xyz="0 0 0.248"/>
    <dynamics damping="0.0" friction="0.0"/>
  </joint>
</robot>
